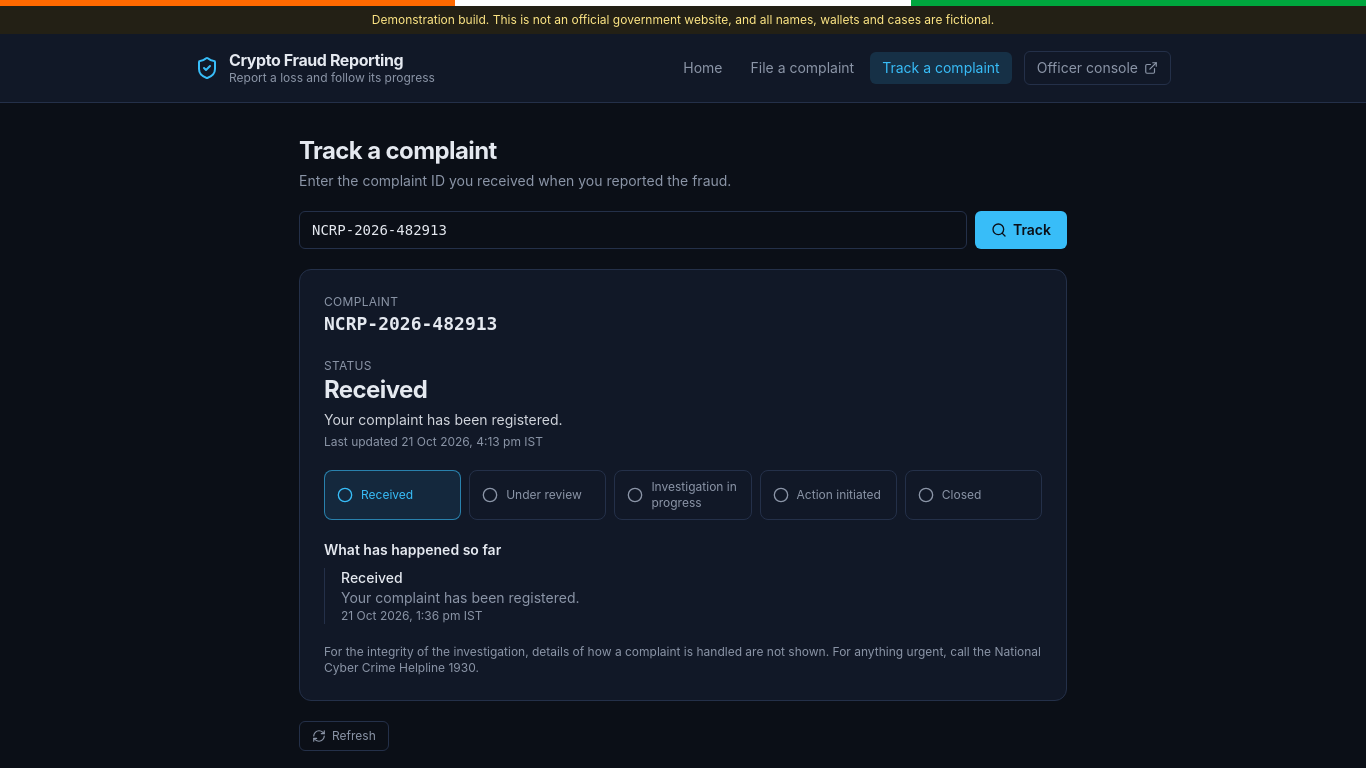
Test: when something goes wrong › clears an old result when a new, unknown ID is looked up
Expected: the text "NCRP-2026-482913" is shown, x1=324 y1=313 x2=497 y2=334
Step 1. Replace the text in the field named "complaint id" with "NCRP-2026-000000" → [633, 230], box x1=299 y1=211 x2=967 y2=249
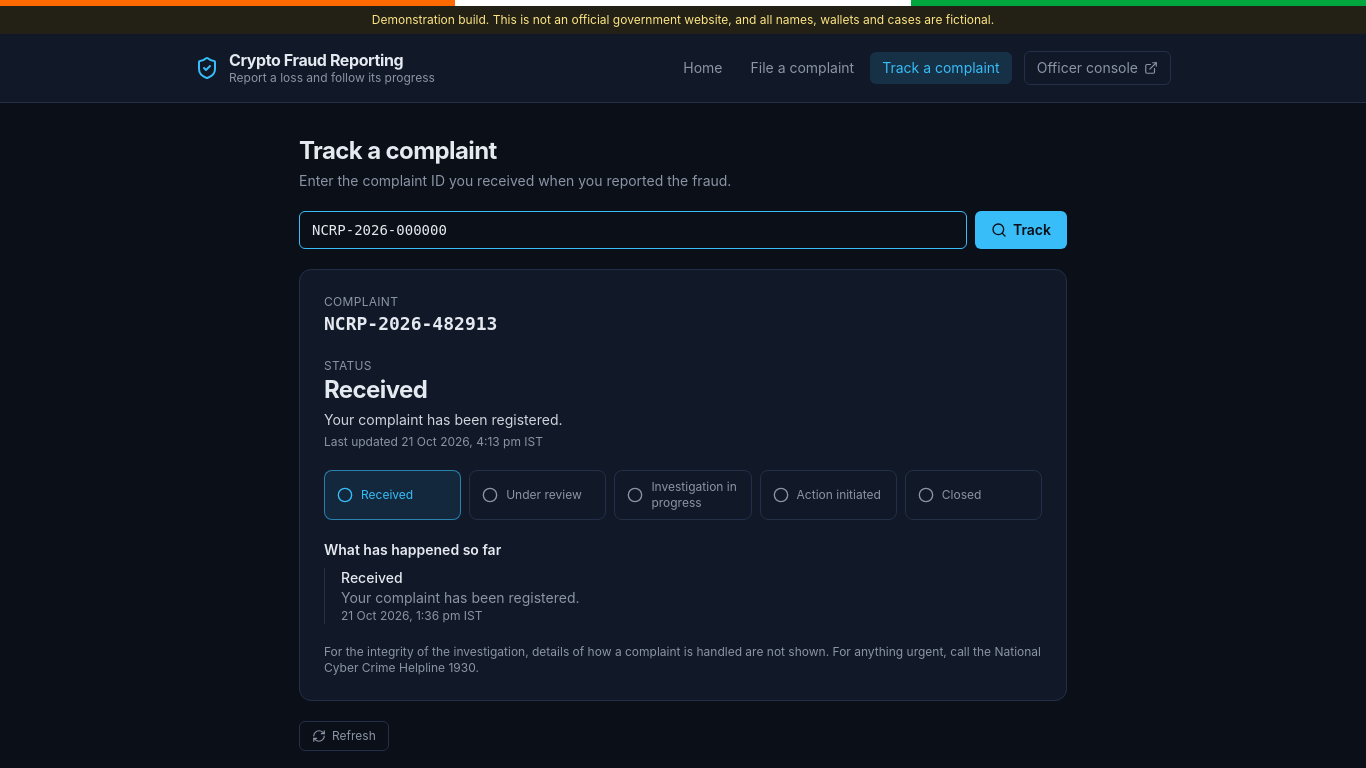
Step 2. Click the button "Track" → [1021, 230], box x1=975 y1=211 x2=1067 y2=249
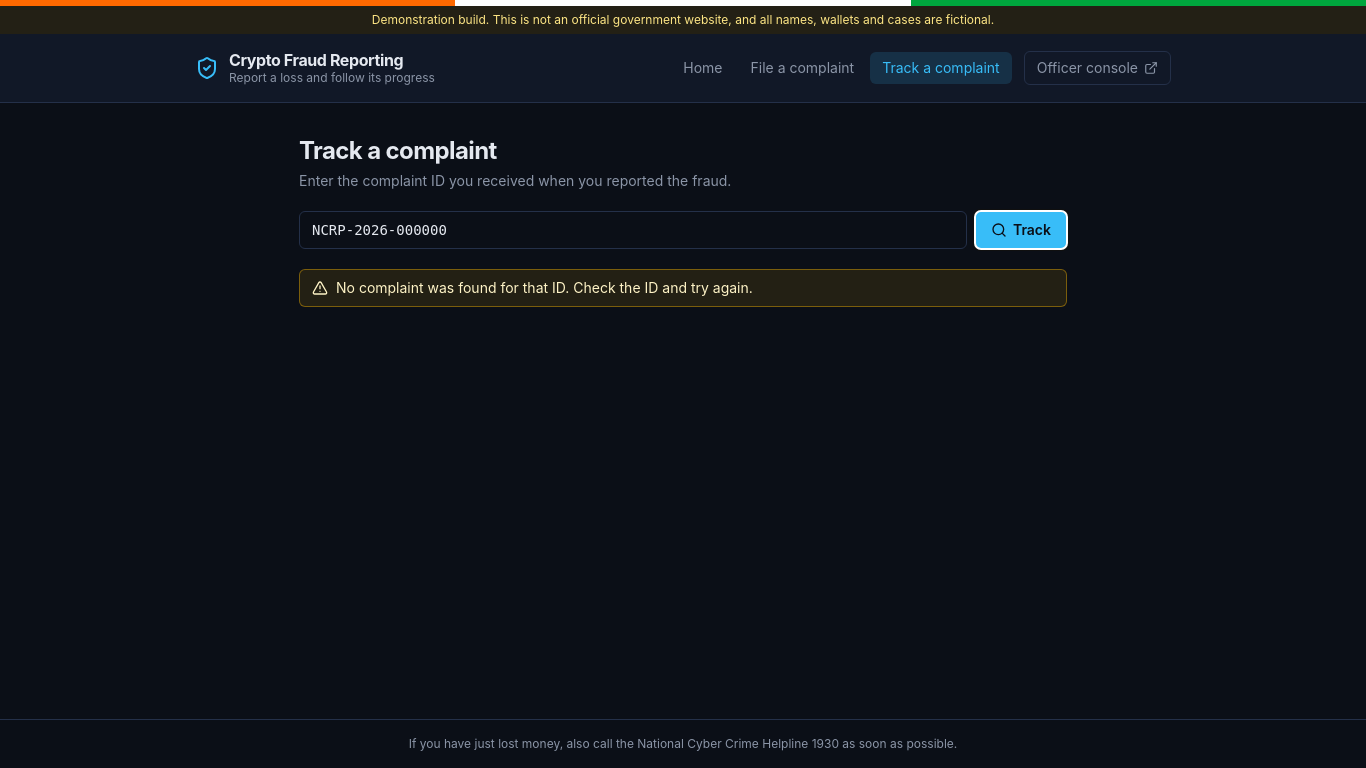
Now the message "No complaint was found for that ID. Check the ID and try again." is shown, box x1=299 y1=269 x2=1067 y2=307
Now the text with test id "tracked-id" is gone
